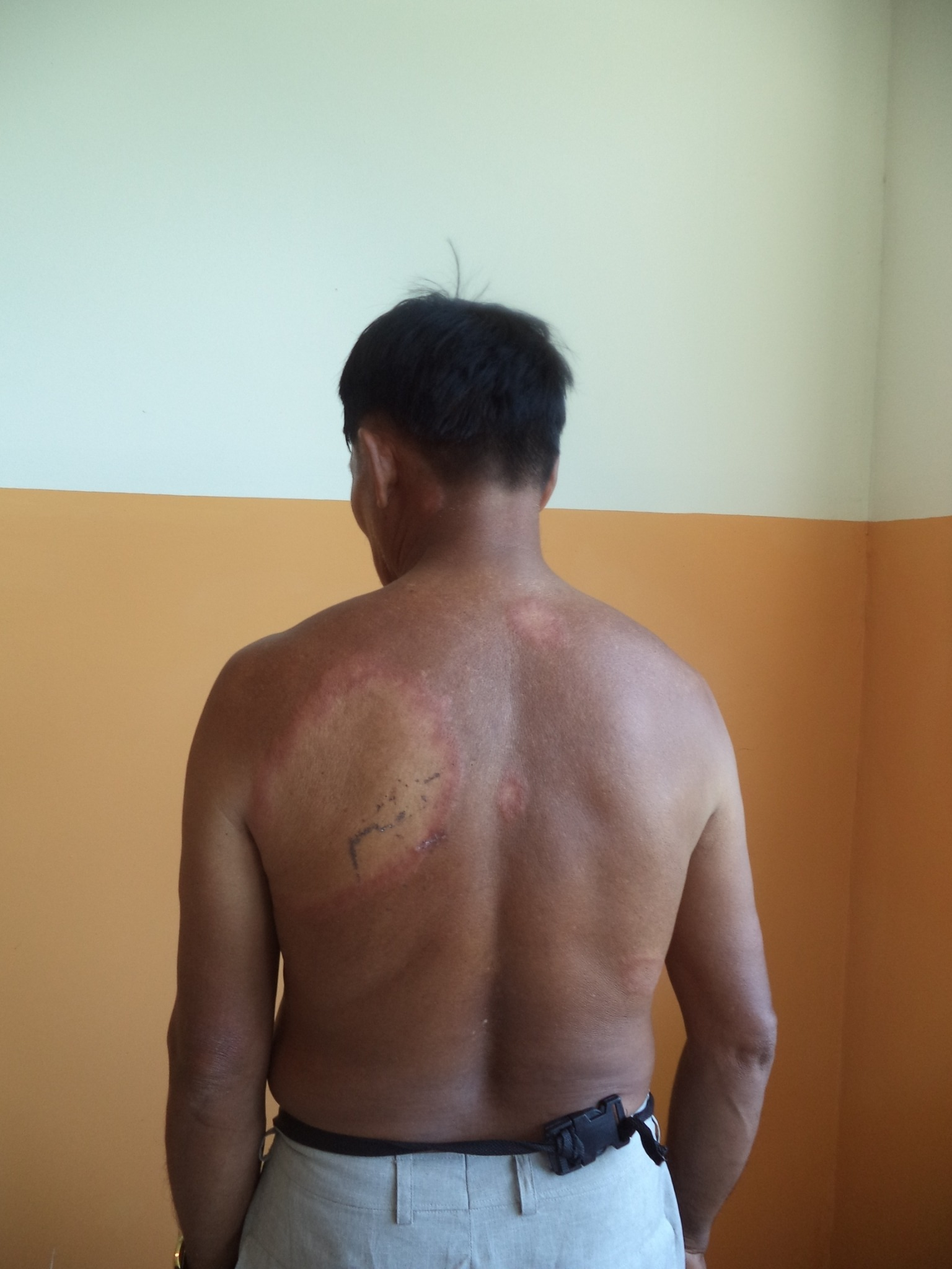Leprosy: (249, 654, 475, 936), (499, 592, 575, 662), (486, 771, 538, 835), (608, 946, 663, 1003)
